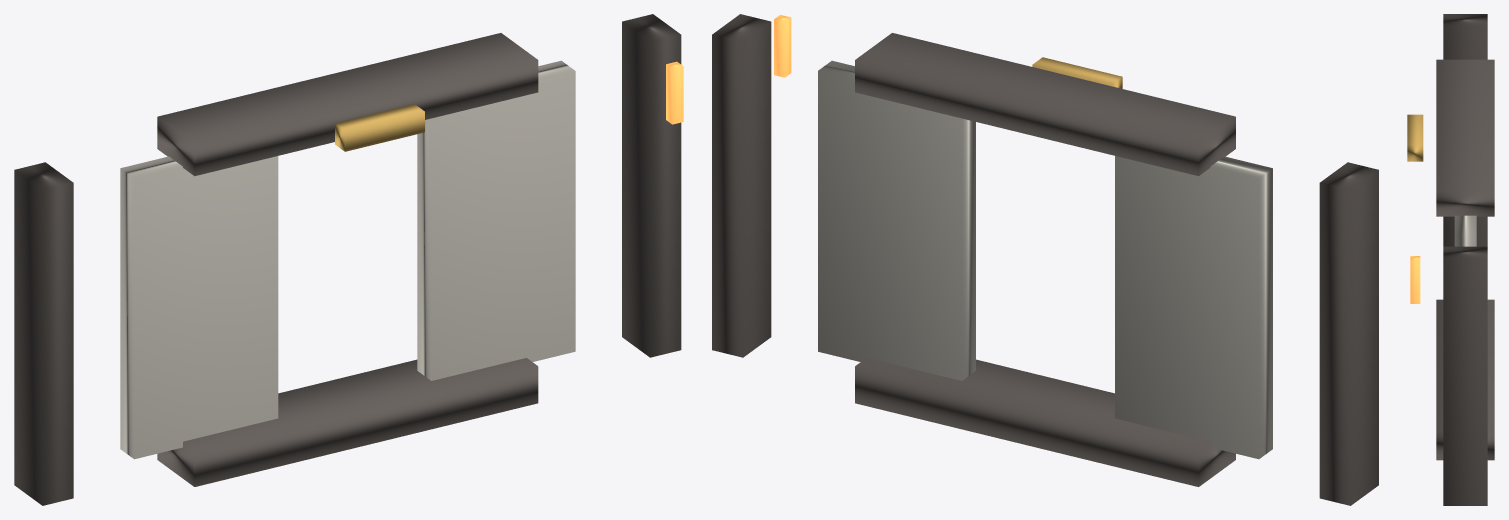
The model's file is solar-yard-thermal-shutter-lod2.glb.
3 renders of one model, left to right at view 1: azimuth 30°, elevation 25°; view 2: azimuth 150°, elevation 25°; view 3: azimuth 270°, elevation 25°, orthographic. The views are drawn at different scales.
Parts seen in each view (by area): view 1: solar-yard-thermal-shutter-panel-left, solar-yard-thermal-shutter-panel-right, solar-yard-thermal-shutter-rail, solar-yard-thermal-shutter-sill, solar-yard-thermal-shutter-post-left, solar-yard-thermal-shutter-post-right, solar-yard-thermal-shutter-actuator, solar-yard-thermal-shutter-status; view 2: solar-yard-thermal-shutter-panel-left, solar-yard-thermal-shutter-panel-right, solar-yard-thermal-shutter-rail, solar-yard-thermal-shutter-sill, solar-yard-thermal-shutter-post-left, solar-yard-thermal-shutter-post-right, solar-yard-thermal-shutter-actuator, solar-yard-thermal-shutter-status; view 3: solar-yard-thermal-shutter-post-right, solar-yard-thermal-shutter-rail, solar-yard-thermal-shutter-post-left, solar-yard-thermal-shutter-sill, solar-yard-thermal-shutter-actuator, solar-yard-thermal-shutter-panel-right, solar-yard-thermal-shutter-status.
Part boxes in pixels (x1=…): solar-yard-thermal-shutter-panel-left: x1=120, y1=156, x2=278, y2=459; solar-yard-thermal-shutter-panel-right: x1=417, y1=60, x2=575, y2=380; solar-yard-thermal-shutter-rail: x1=157, y1=33, x2=538, y2=176; solar-yard-thermal-shutter-sill: x1=157, y1=358, x2=538, y2=486; solar-yard-thermal-shutter-post-left: x1=14, y1=162, x2=73, y2=505; solar-yard-thermal-shutter-post-right: x1=622, y1=14, x2=681, y2=357; solar-yard-thermal-shutter-actuator: x1=335, y1=104, x2=424, y2=151; solar-yard-thermal-shutter-status: x1=666, y1=61, x2=683, y2=124; solar-yard-thermal-shutter-panel-left: x1=1115, y1=156, x2=1272, y2=459; solar-yard-thermal-shutter-panel-right: x1=818, y1=60, x2=975, y2=380; solar-yard-thermal-shutter-rail: x1=855, y1=33, x2=1235, y2=176; solar-yard-thermal-shutter-sill: x1=855, y1=358, x2=1235, y2=486; solar-yard-thermal-shutter-post-left: x1=1319, y1=162, x2=1378, y2=505; solar-yard-thermal-shutter-post-right: x1=712, y1=14, x2=771, y2=357; solar-yard-thermal-shutter-actuator: x1=1032, y1=57, x2=1122, y2=88; solar-yard-thermal-shutter-status: x1=774, y1=14, x2=791, y2=77; solar-yard-thermal-shutter-post-right: x1=1443, y1=246, x2=1487, y2=505; solar-yard-thermal-shutter-rail: x1=1436, y1=59, x2=1494, y2=216; solar-yard-thermal-shutter-post-left: x1=1443, y1=14, x2=1487, y2=246; solar-yard-thermal-shutter-sill: x1=1436, y1=299, x2=1494, y2=460; solar-yard-thermal-shutter-actuator: x1=1407, y1=114, x2=1423, y2=161; solar-yard-thermal-shutter-panel-right: x1=1454, y1=215, x2=1476, y2=246; solar-yard-thermal-shutter-status: x1=1410, y1=256, x2=1420, y2=303.
Bounding box in the file's own units: 5.76 × 2.96 × 0.87.
